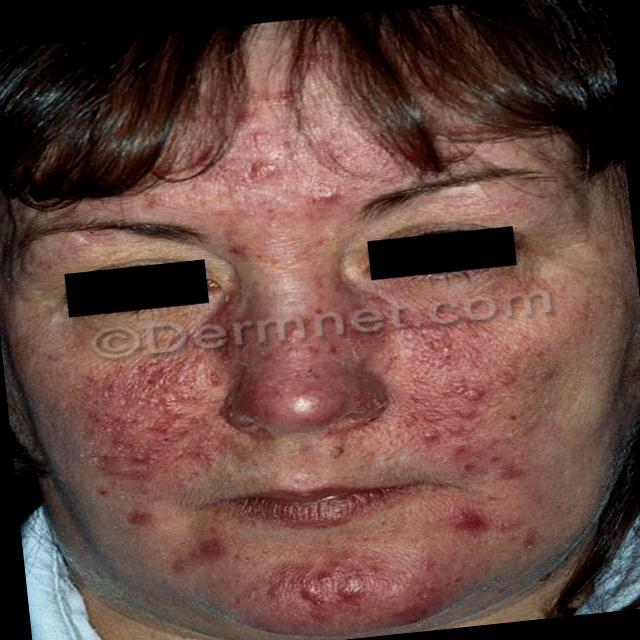skinredness: (57, 122, 570, 598)
